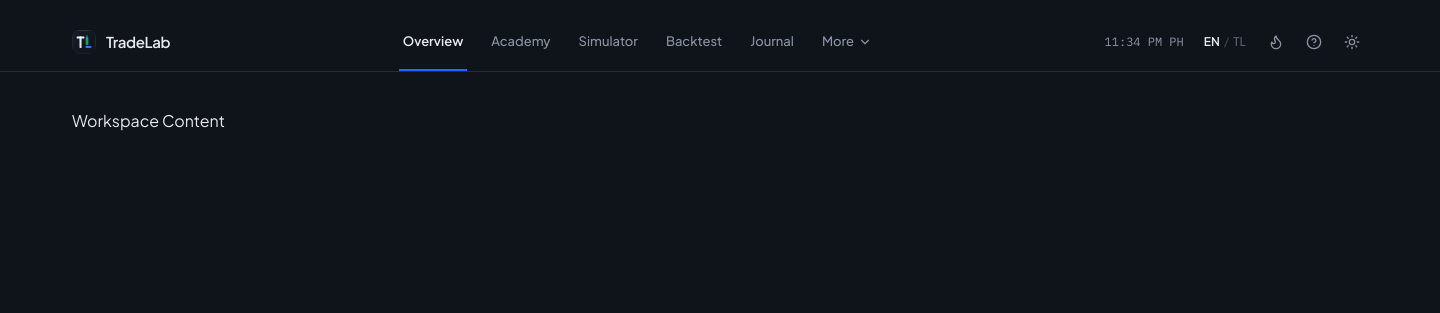
Test: Editorial Fintech UI/UX Redesign › renders AppShell with single-line top navigation (zero desktop left sidebar) and interactive More menu
This screenshot has width=1440, height=313.
Expected: the link "Overview" is shown, 391,12 -> 475,71
Expected: the link "Academy" is shown, 491,33 -> 551,49
# Secondary routes live cleanly inside More dropdown
Step 1. Click the button "More" → (847, 42), box 810,12 -> 884,71
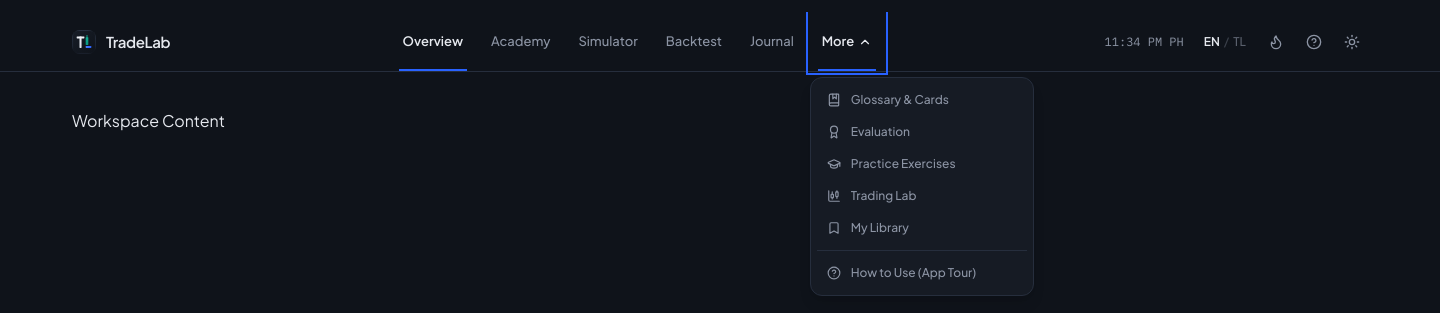
Expected: the menu item "Glossary & Cards" is shown, 827,92 -> 949,107
Expected: the menu item "Evaluation" is shown, 827,124 -> 910,139
